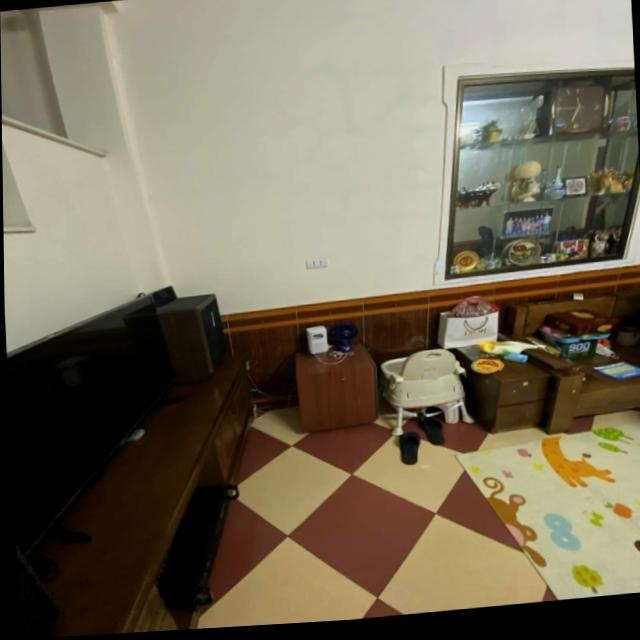outlet: (305, 257, 328, 269)
